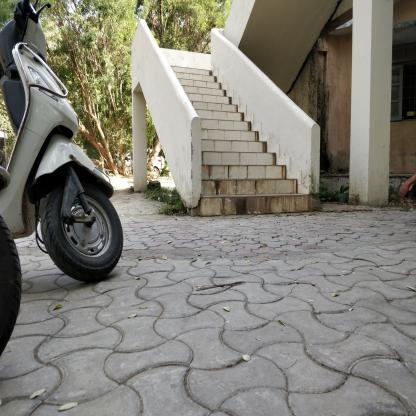stairs: (204, 129, 263, 223)
